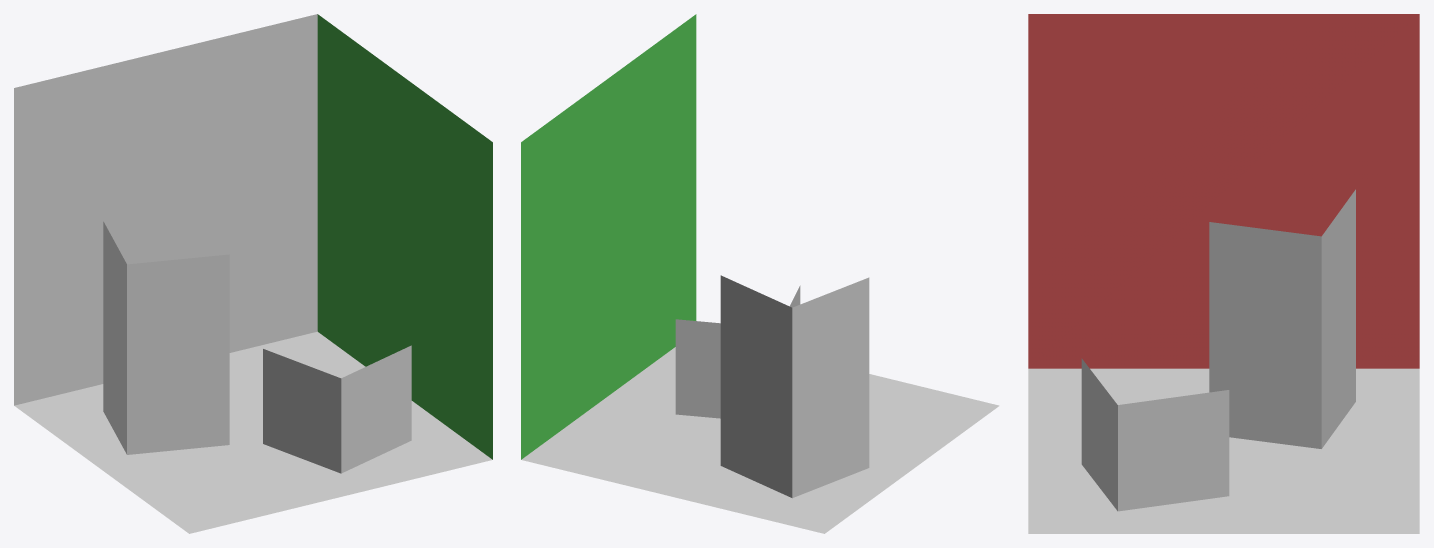
Rendered from CornellBox.glb.
3 renders of one model, left to right at view 1: azimuth 30°, elevation 25°; view 2: azimuth 150°, elevation 25°; view 3: azimuth 270°, elevation 25°, orthographic. The views are drawn at different scales.
Parts seen in each view (by area): view 1: CornellBox; view 2: CornellBox; view 3: CornellBox.
Boxes of the visible parts, x1,y1,x2,y2 form: CornellBox: (14, 14, 492, 533); CornellBox: (521, 14, 999, 533); CornellBox: (1028, 14, 1419, 533).
Size of the model in its own units: 2 by 2 by 2.
